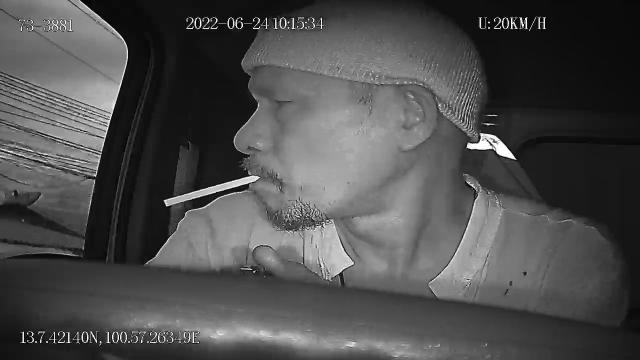Cigarette: (162, 174, 262, 207)
